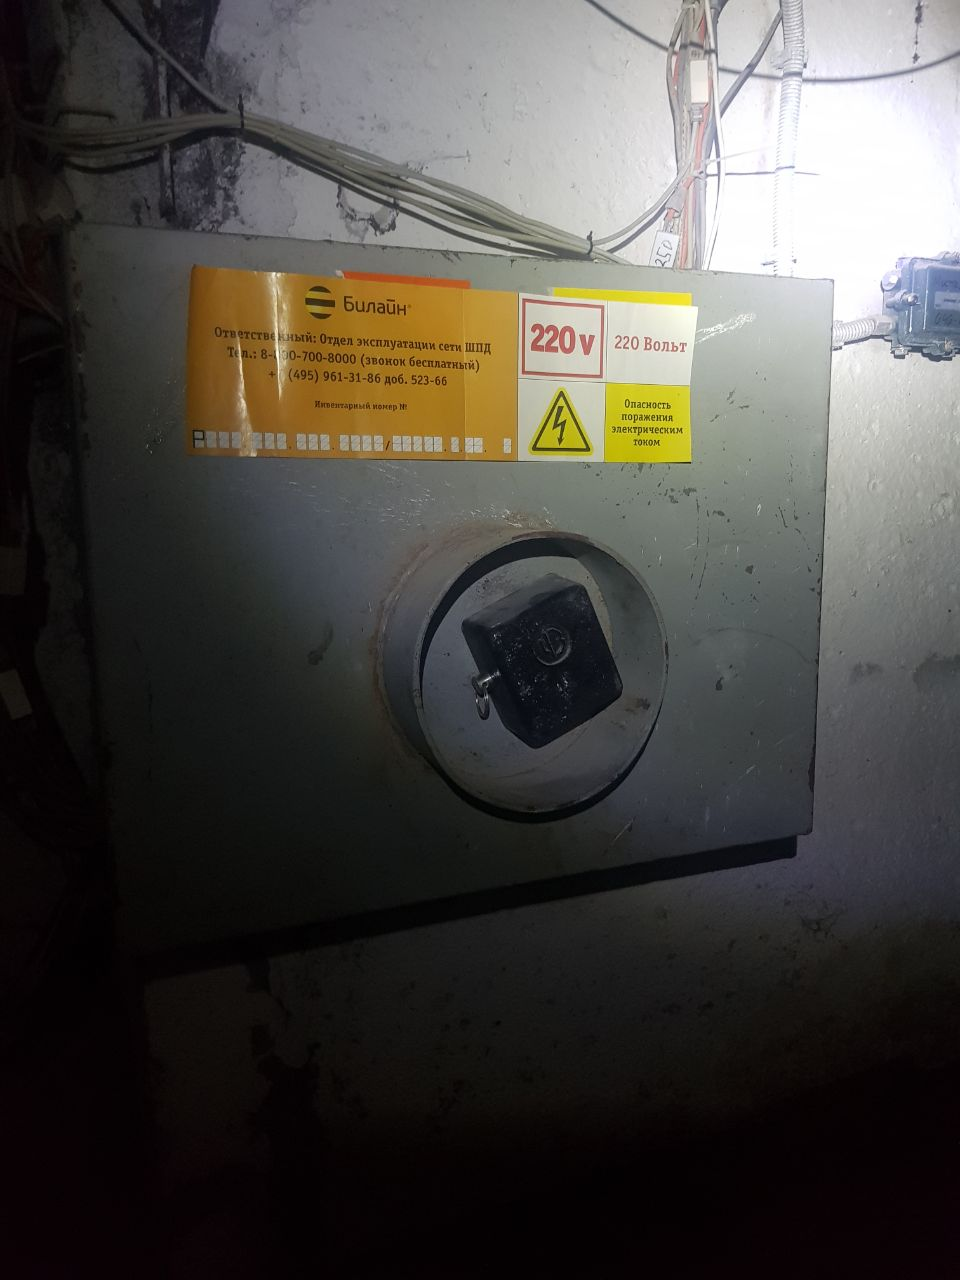shta-3: (45, 220, 836, 956)
